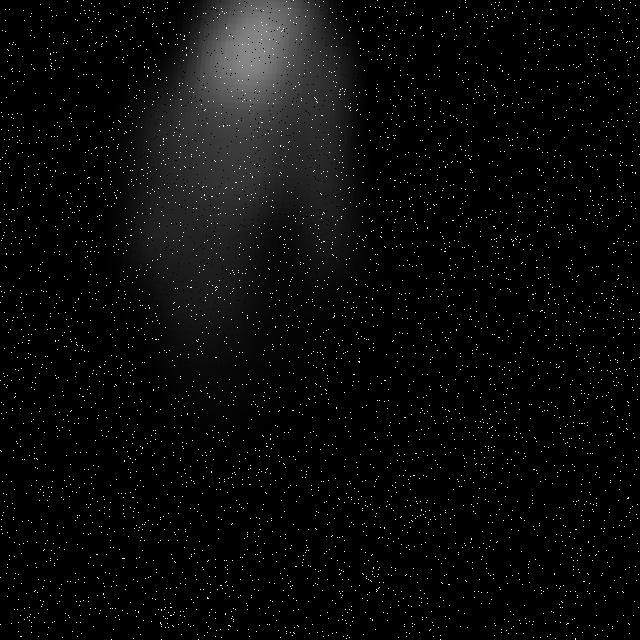person: (56, 1, 412, 517), (575, 4, 640, 443)
